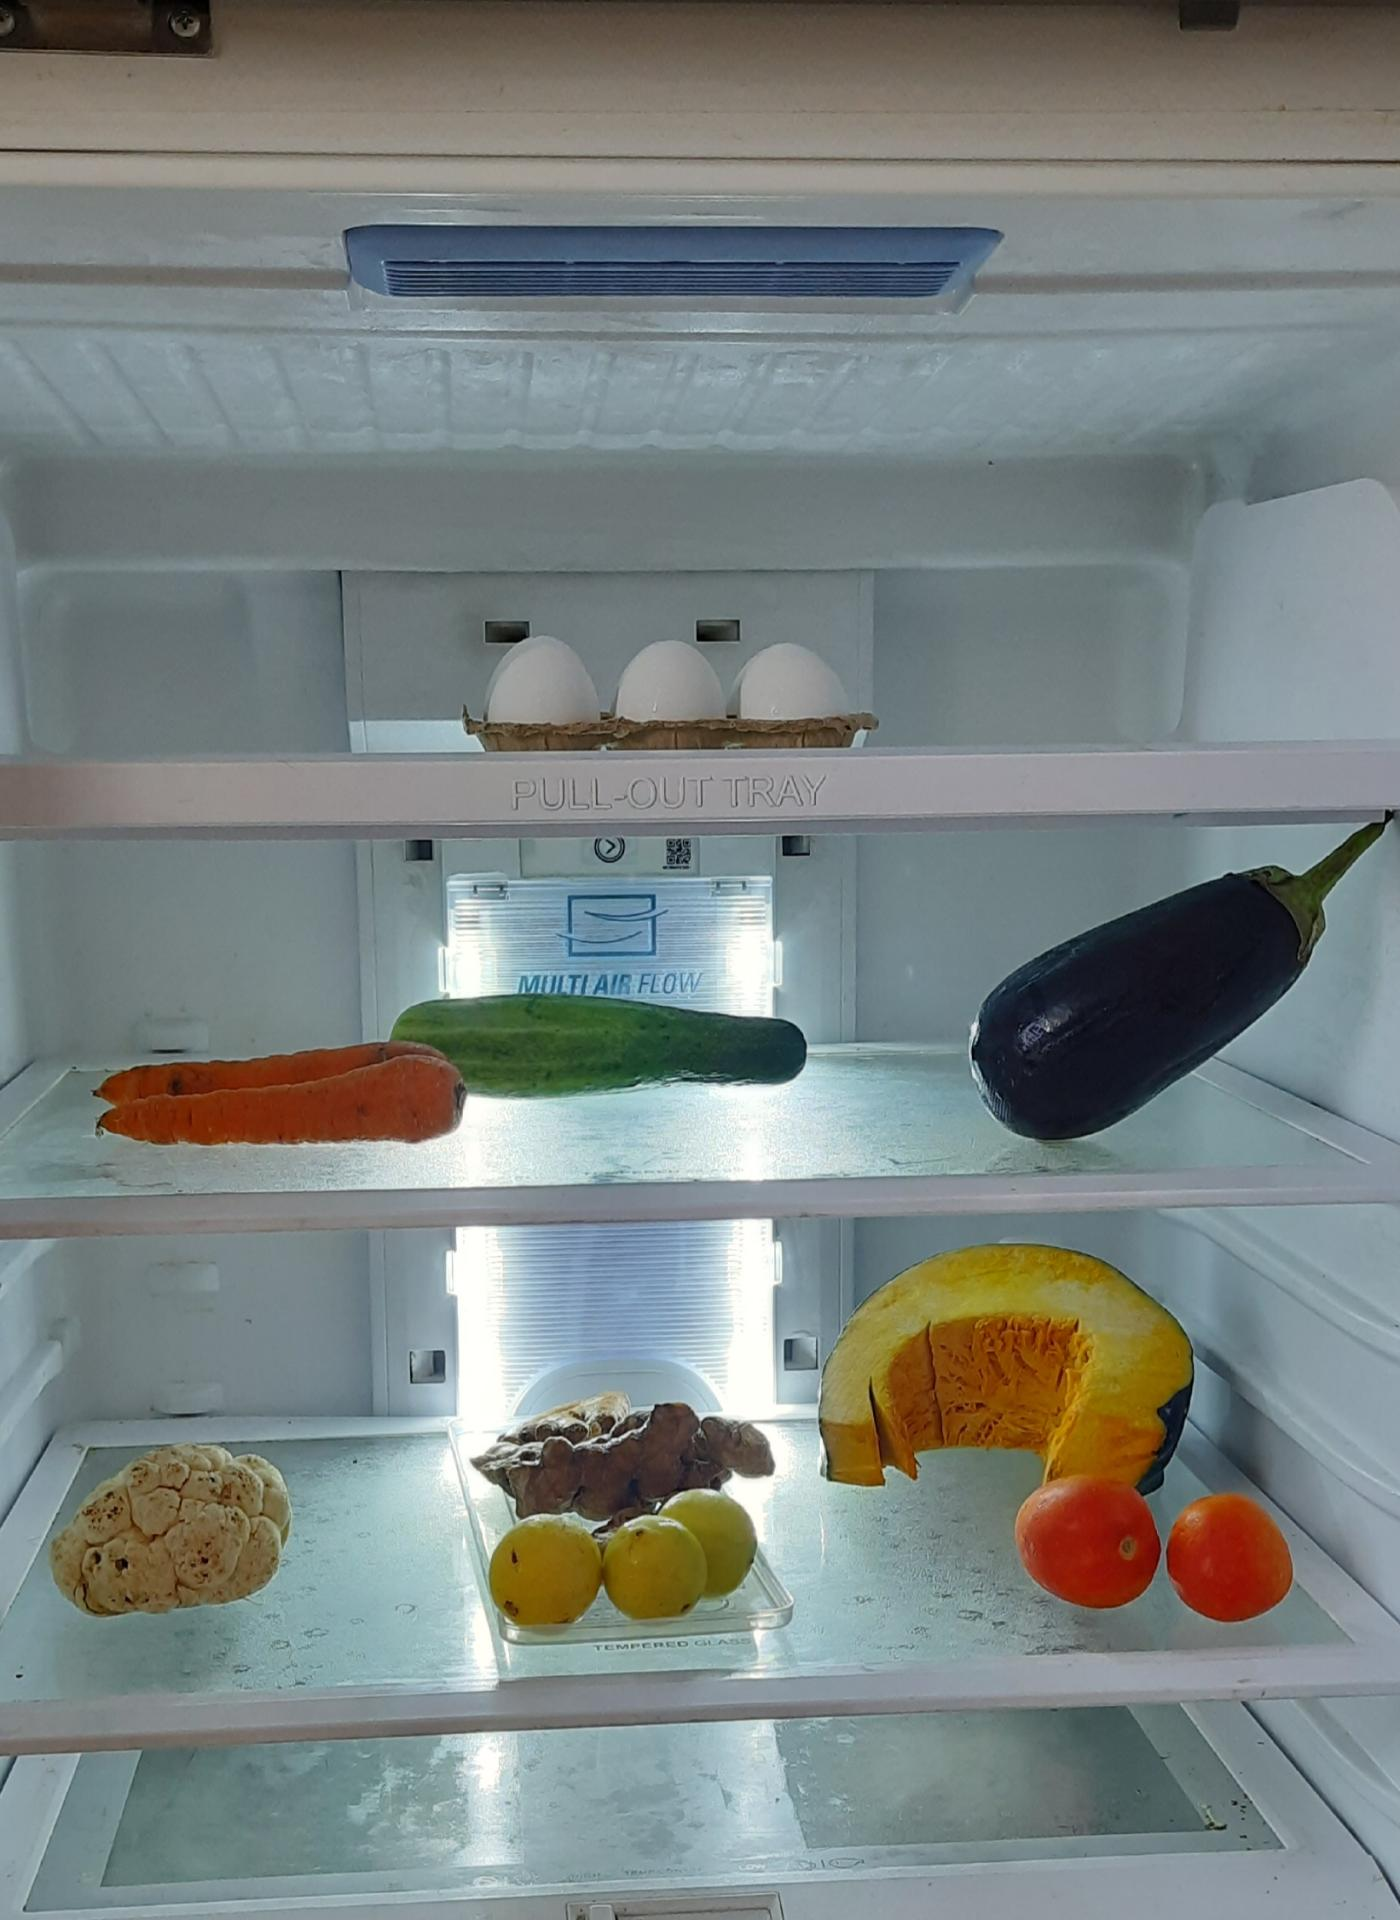brinjal: (959, 838, 1396, 1136)
carrots: (89, 1049, 461, 1164)
cauliflower: (46, 1437, 303, 1625)
cucumber: (388, 990, 819, 1094)
egg: (468, 619, 878, 759)
ginger: (470, 1400, 775, 1523)
lemon: (480, 1494, 766, 1626)
pumpkin: (819, 1248, 1208, 1491)
tomato: (996, 1468, 1300, 1619)
